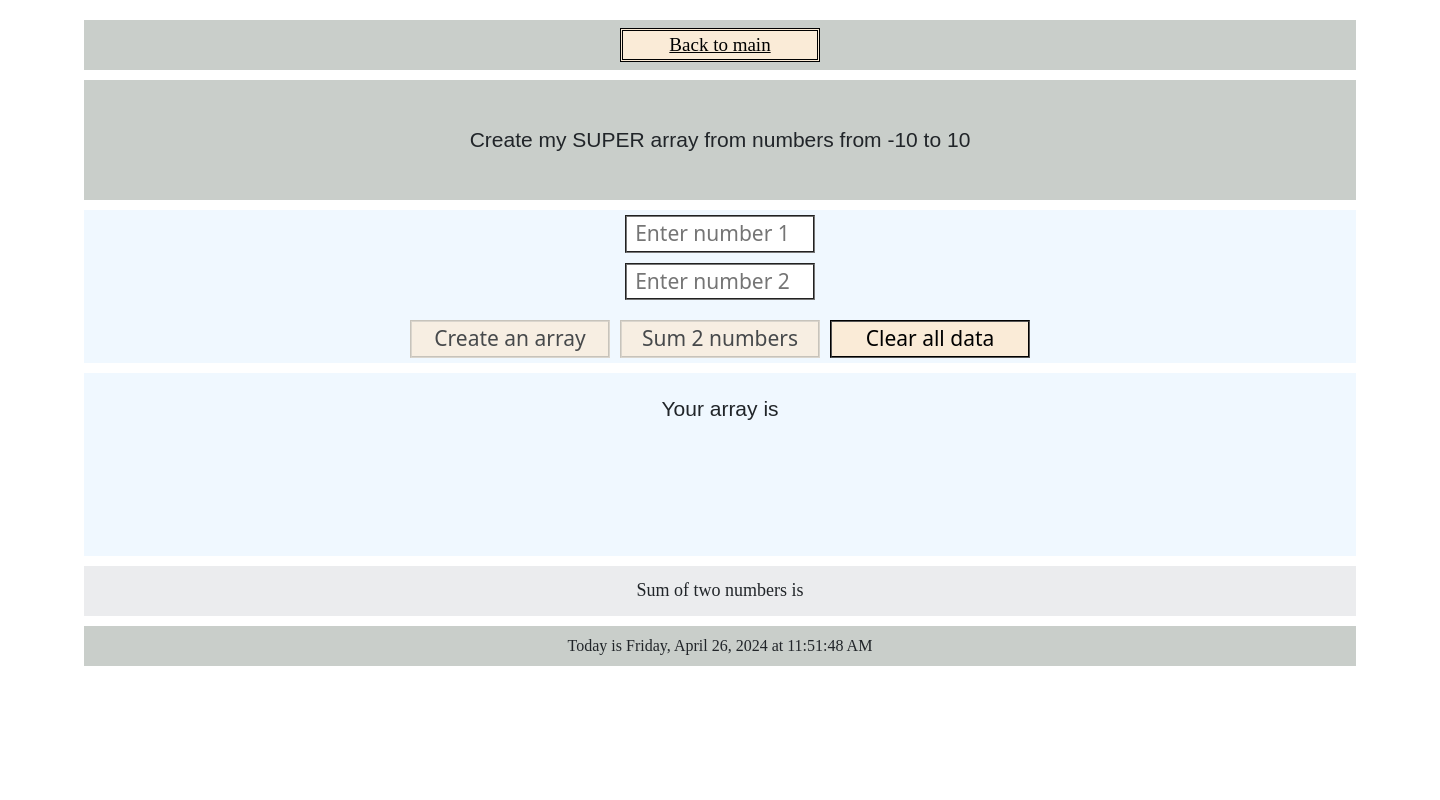
Test case: clear data › clear data with array and sum
Type "5" into the number field with id "num1" at (720, 234), box x1=625 y1=215 x2=815 y2=253
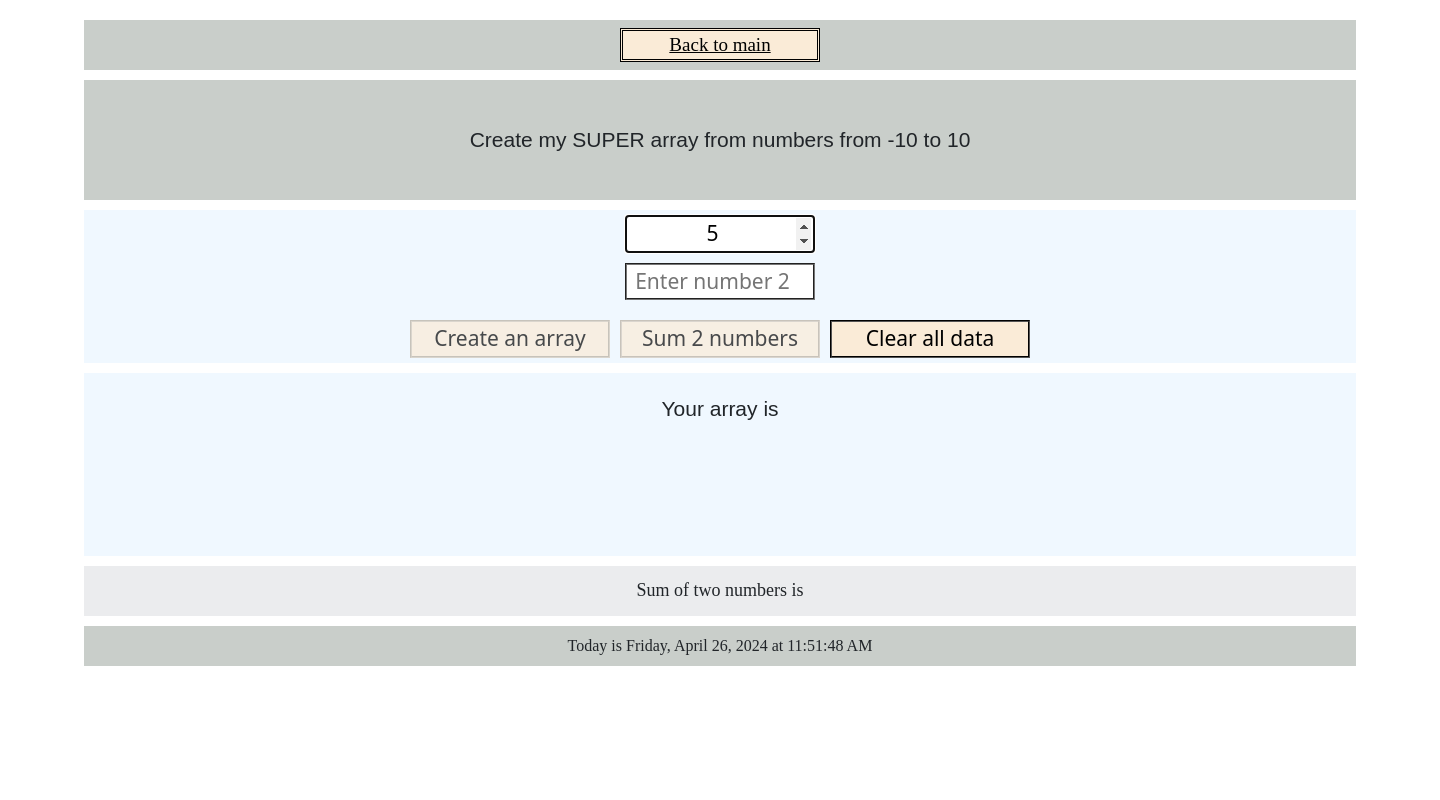
Type "7" into the number field with id "num2" at (720, 282), box x1=625 y1=263 x2=815 y2=301
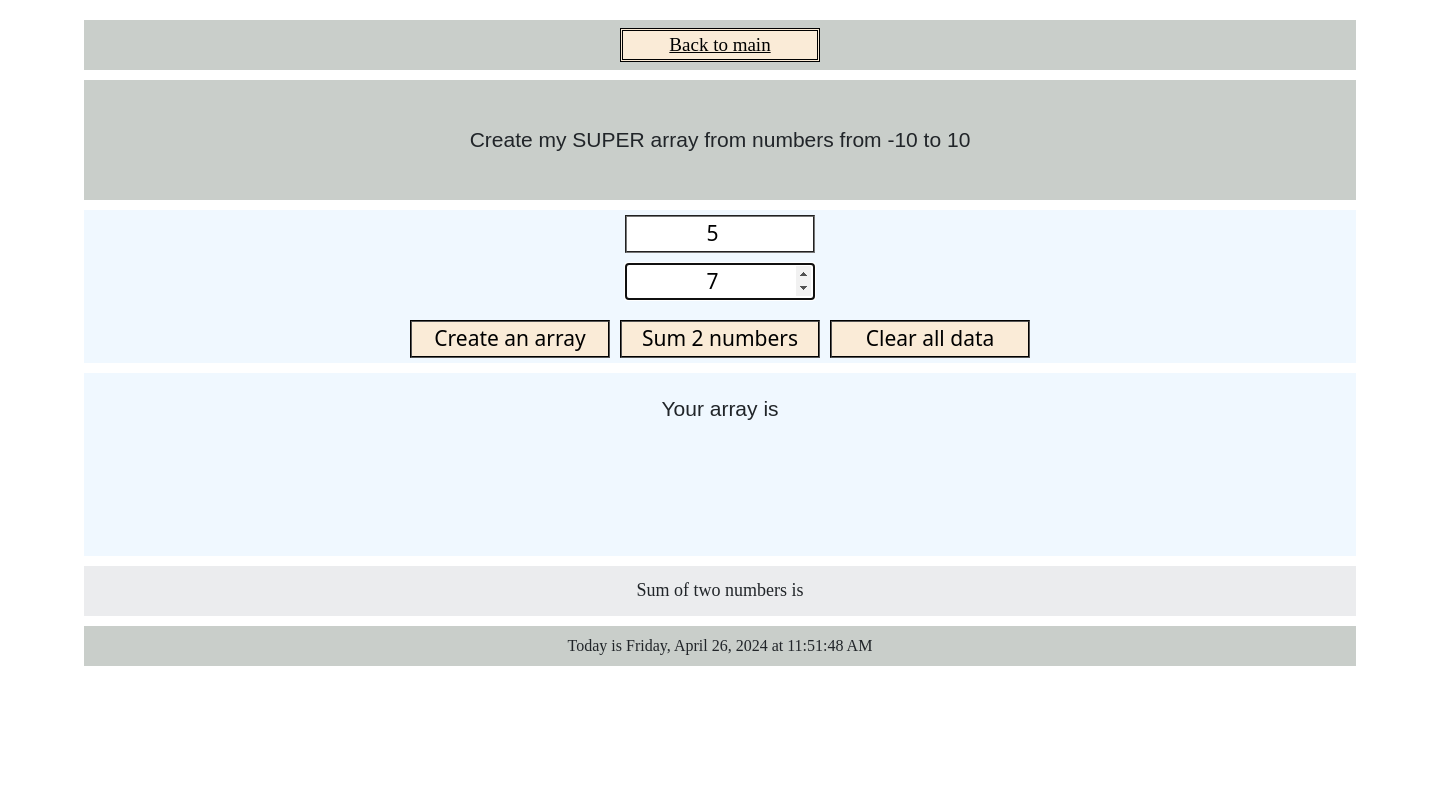
Click the button with id "createArray" at (510, 339), box x1=410 y1=320 x2=610 y2=358
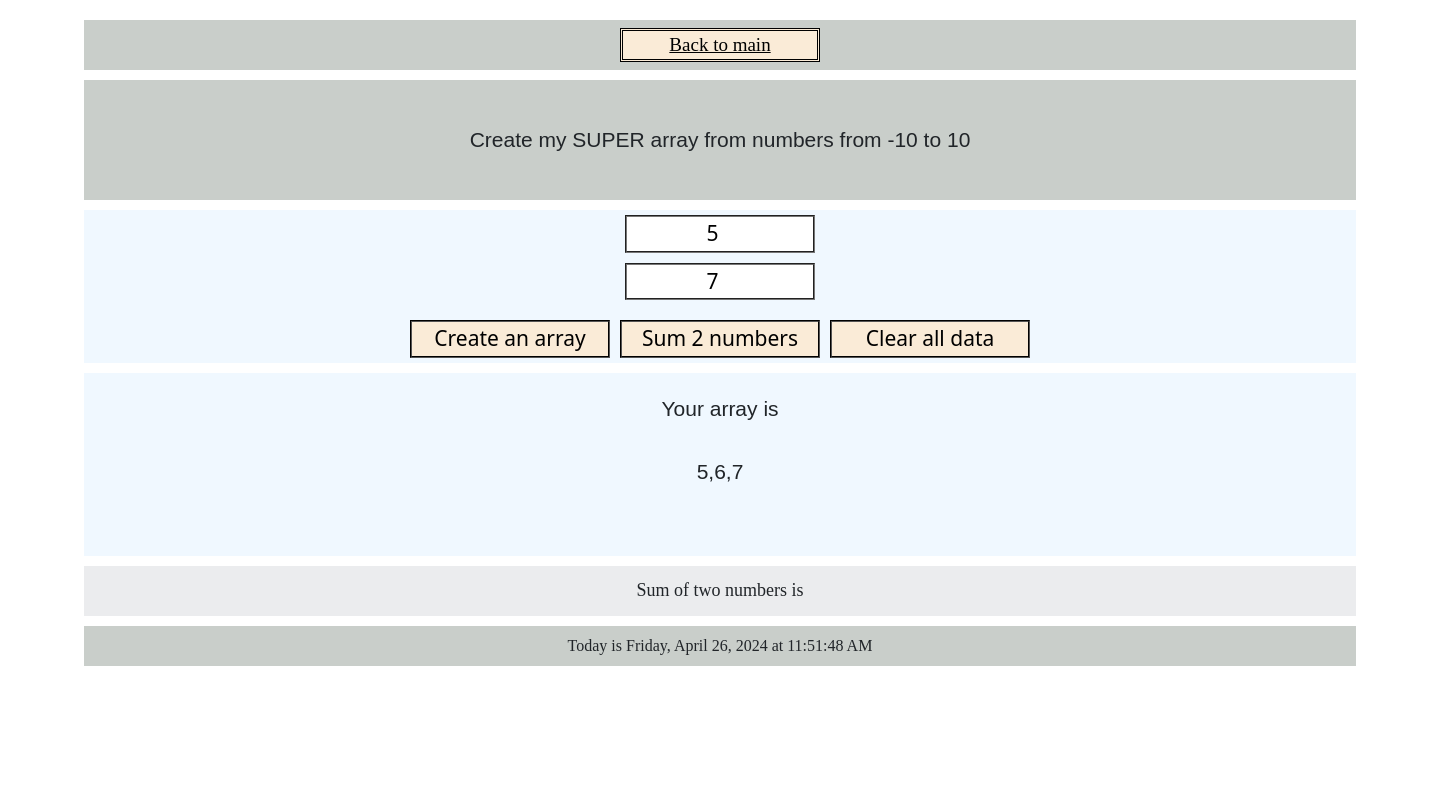
Click the button with id "createSum" at (720, 339), box x1=620 y1=320 x2=820 y2=358
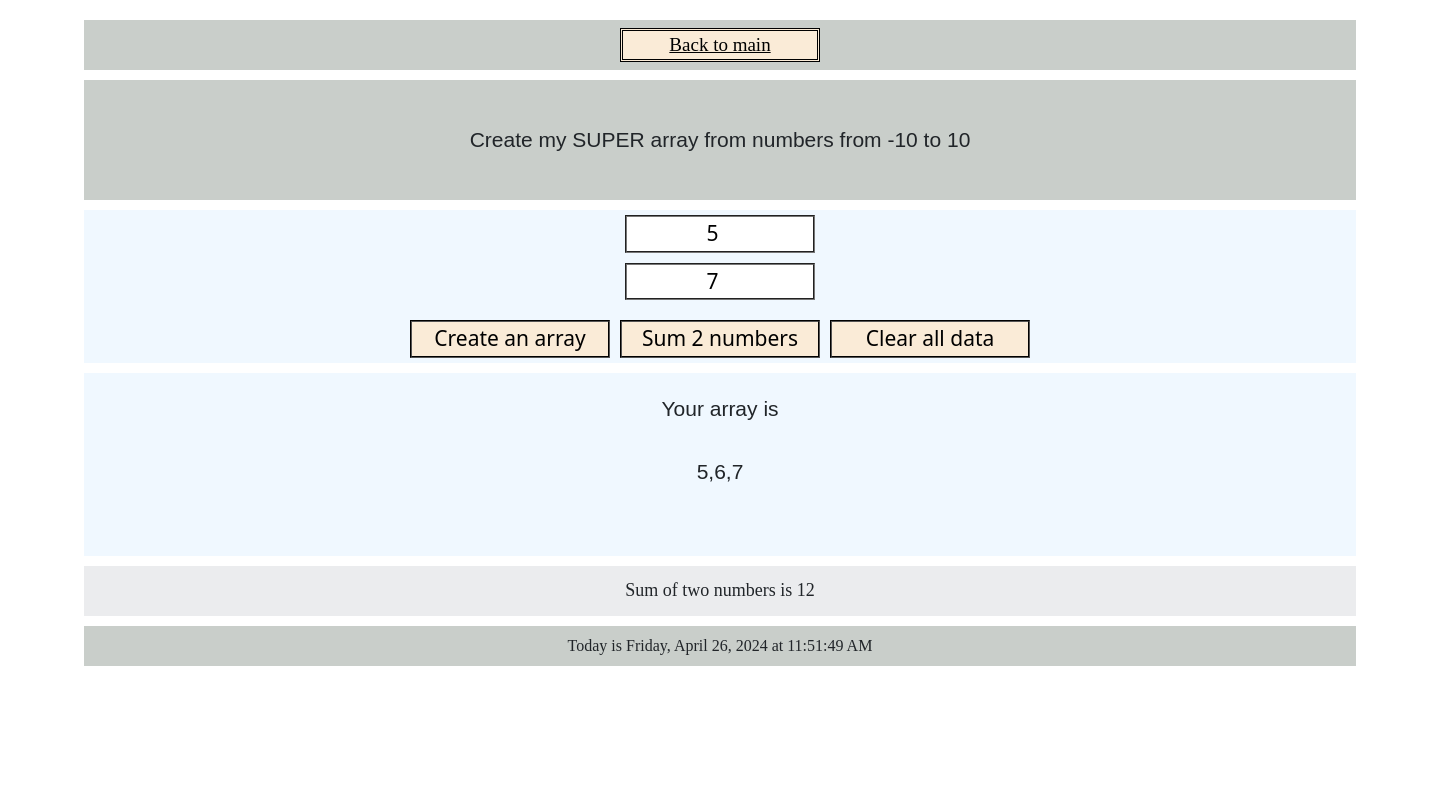
Expected: the element with id "array" shows "5,6,7", x1=84 y1=373 x2=1356 y2=556
Expected: the text with id "sum" shows "12", x1=84 y1=566 x2=1356 y2=616
Click the button with id "reset" at (930, 339), box x1=830 y1=320 x2=1030 y2=358
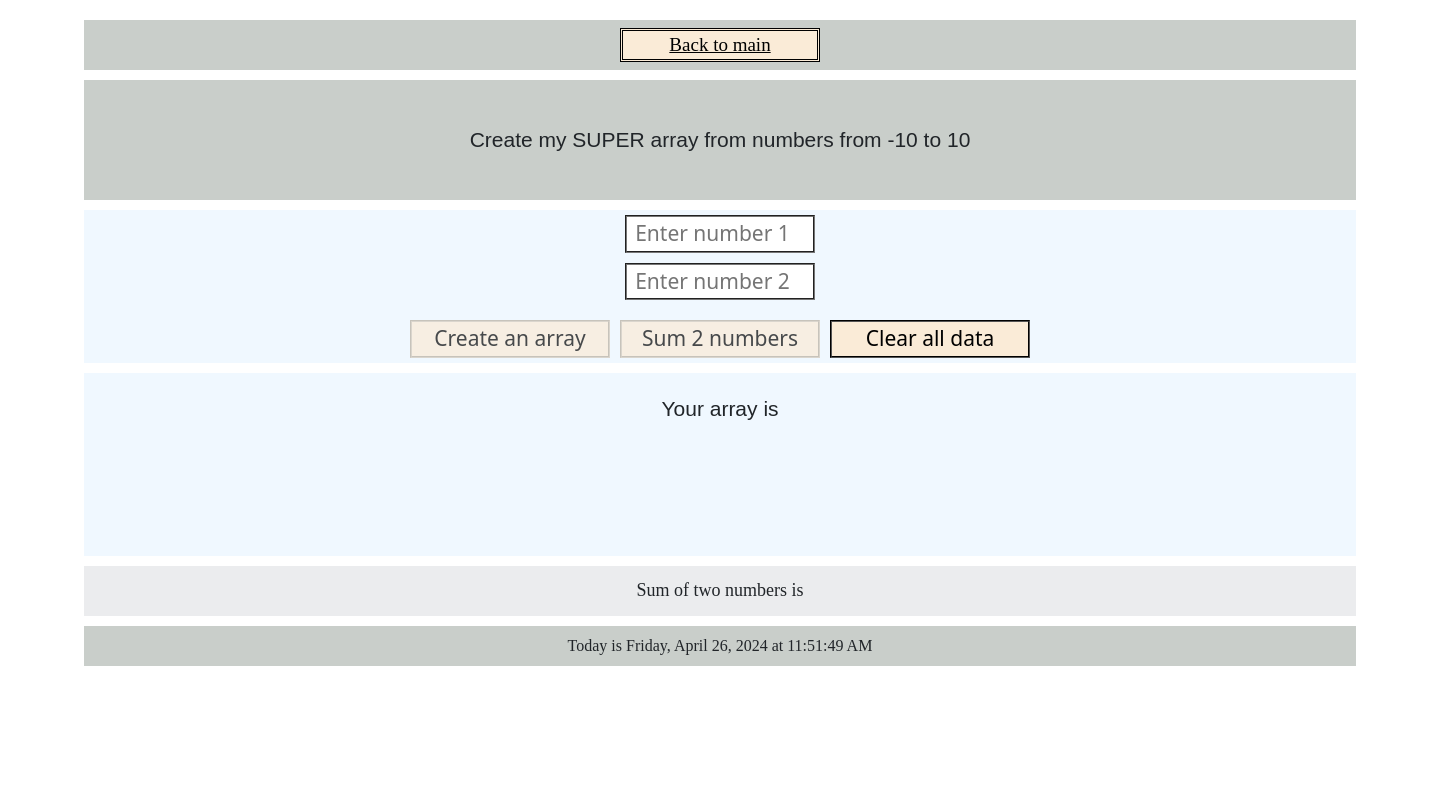
Expected: the element with id "array" no longer shows "5,6,7"
Expected: the text with id "sum" no longer shows "12"
